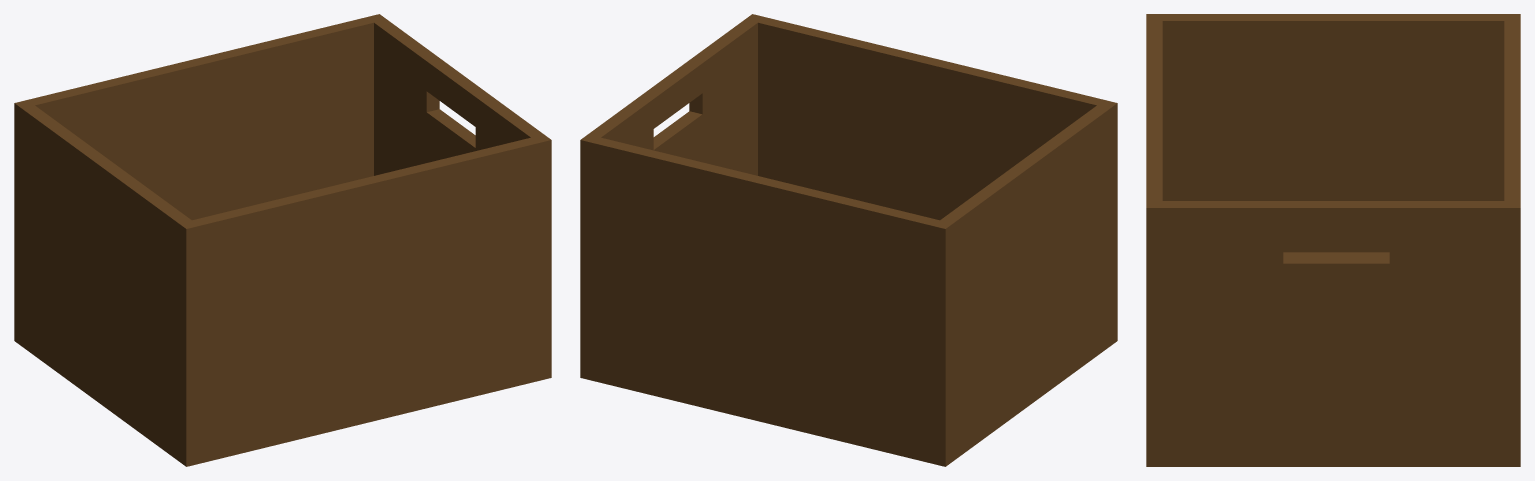
File: Pappbox.fbx
3 renders of one model, left to right at view 1: azimuth 30°, elevation 25°; view 2: azimuth 150°, elevation 25°; view 3: azimuth 270°, elevation 25°, orthographic. The views are drawn at different scales.
Parts seen in each view (by area): view 1: Cube.003; view 2: Cube.003; view 3: Cube.003.
Boxes of the visible parts, x1,y1,x2,y2 form: Cube.003: [14, 14, 551, 466]; Cube.003: [580, 14, 1117, 466]; Cube.003: [1146, 14, 1520, 466].
Bounding box in the file's own units: 55.62 × 34.63 × 45.4.
